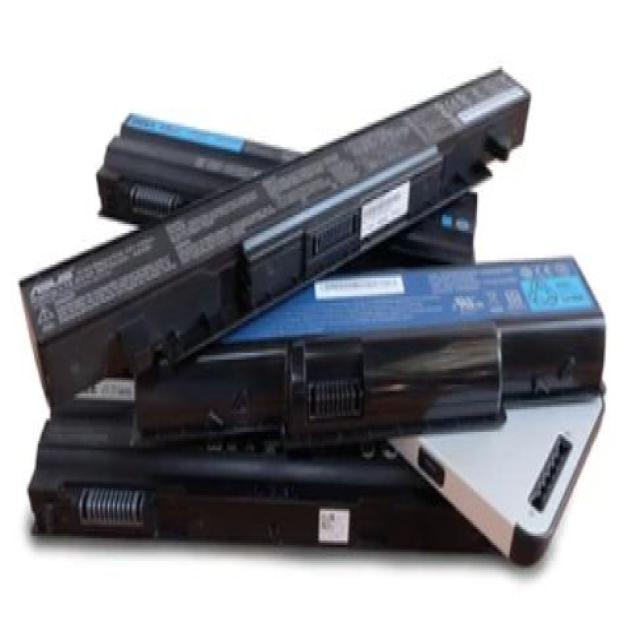electronic: (10, 42, 623, 620)
